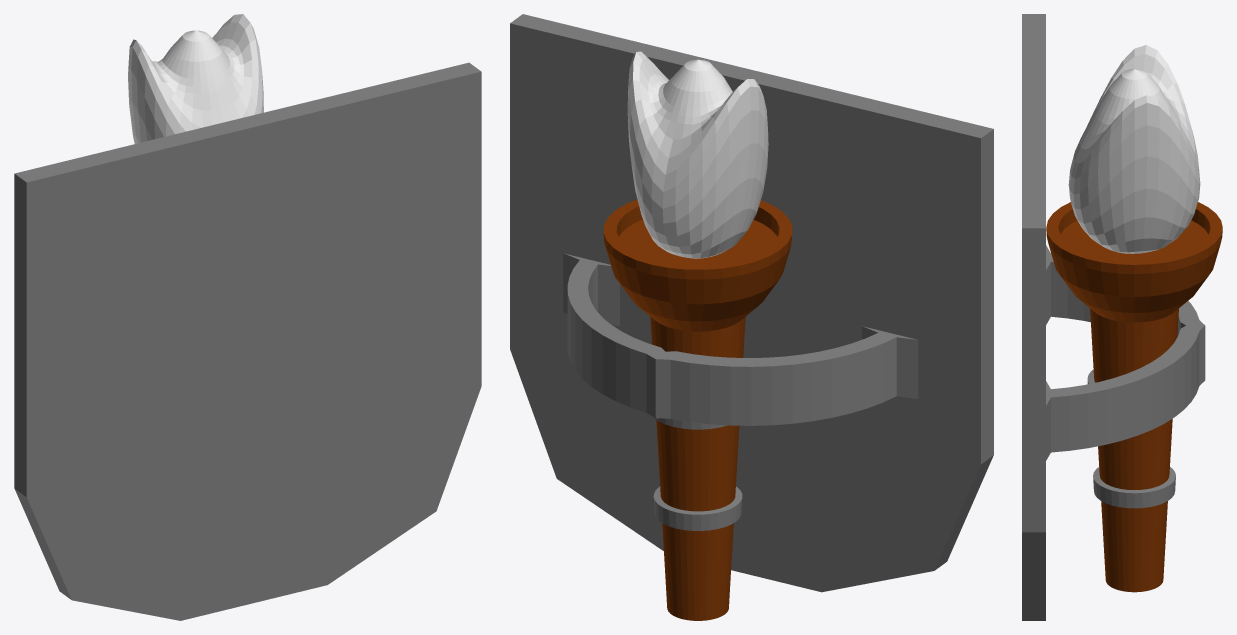
The model's file is torchhold.glb.
The picture shows the model from 3 angles, left to right: view 1: azimuth 30°, elevation 25°; view 2: azimuth 150°, elevation 25°; view 3: azimuth 270°, elevation 25°; orthographic projection. The views are drawn at different scales.
Visible parts, largest first — view 1: torchhold; view 2: torchhold; view 3: torchhold.
Boxes of the visible parts, left/top/right/bottom form: torchhold: left=14, top=14, right=481, bottom=620; torchhold: left=510, top=14, right=993, bottom=620; torchhold: left=1022, top=14, right=1222, bottom=620.
Bounding box in the file's own units: 0.2932 × 0.3264 × 0.116.
